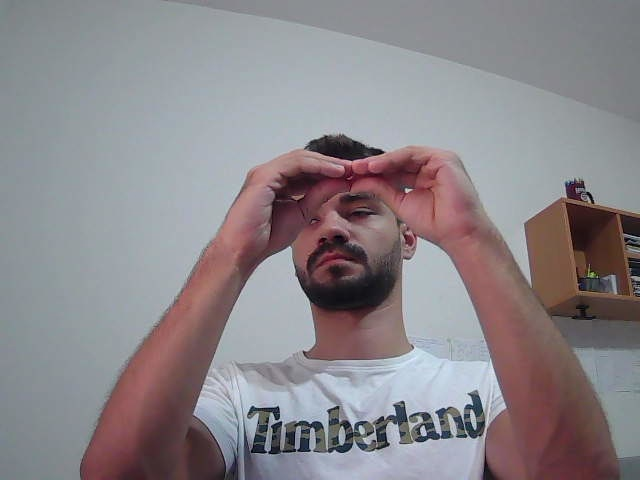b: (178, 124, 536, 293)
